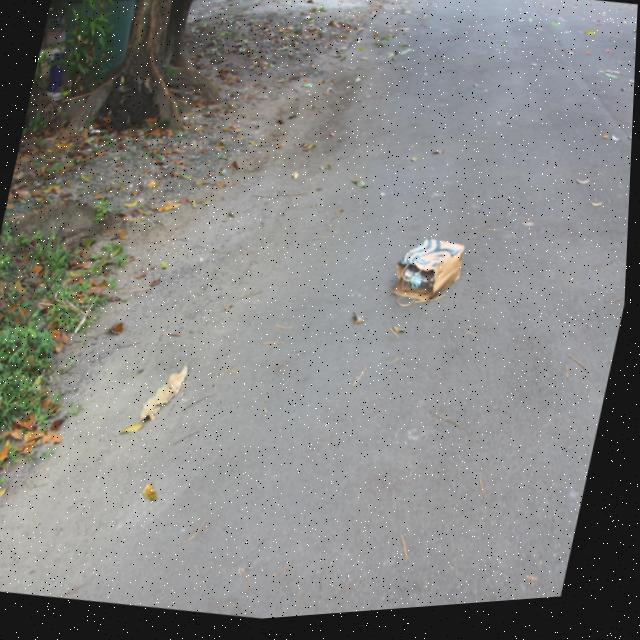Paper_Bag: (390, 238, 470, 323)
